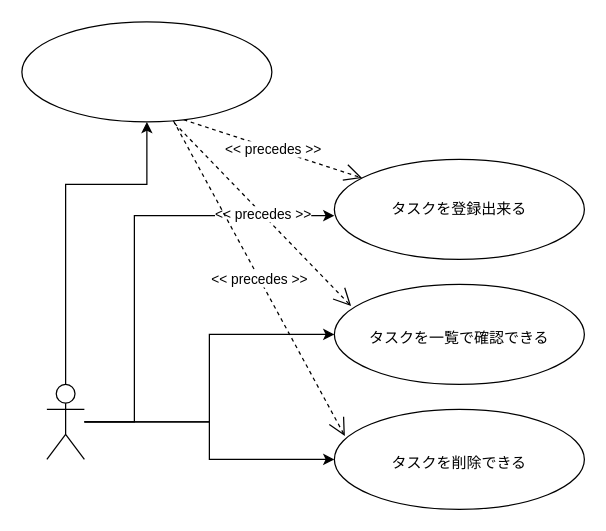
Some shapes in this 606 by 531 pixel diagram are drawn without their labels. Each missing label, with the centre of its shape:
identification#ログインする: (x=146, y=71)
User: (x=65, y=421)
